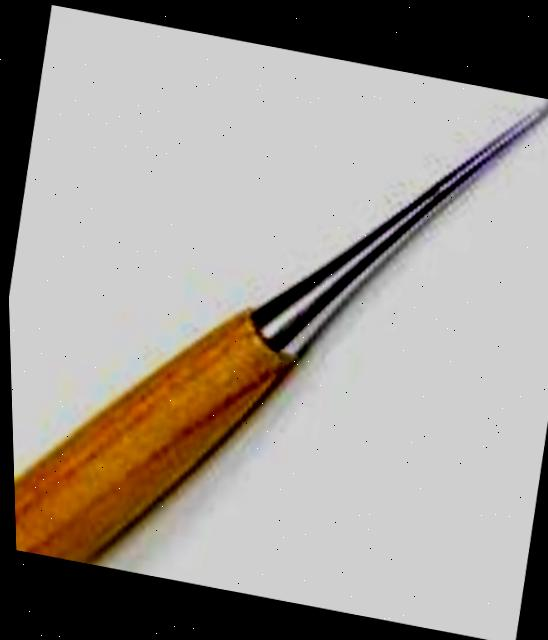ice pick: (0, 3, 548, 640)
